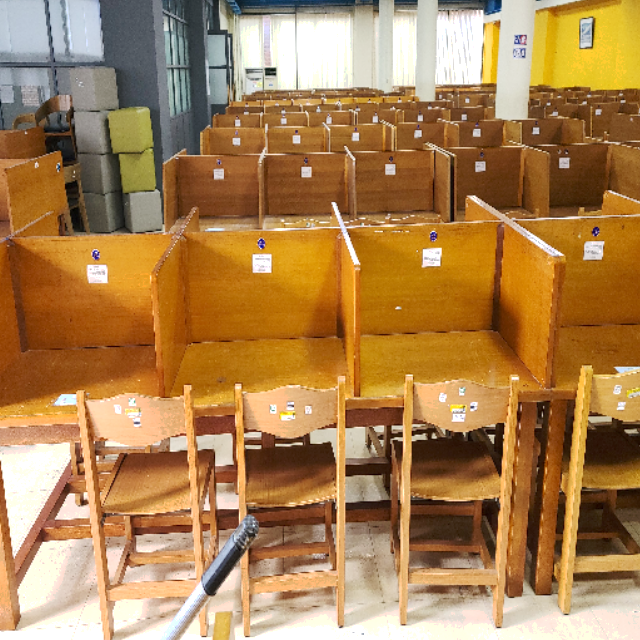empty: (362, 206, 552, 493), (167, 216, 355, 503), (3, 218, 157, 520)
